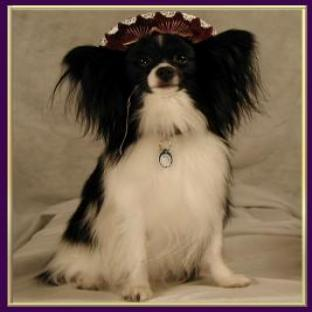Animal: (36, 12, 259, 301)
